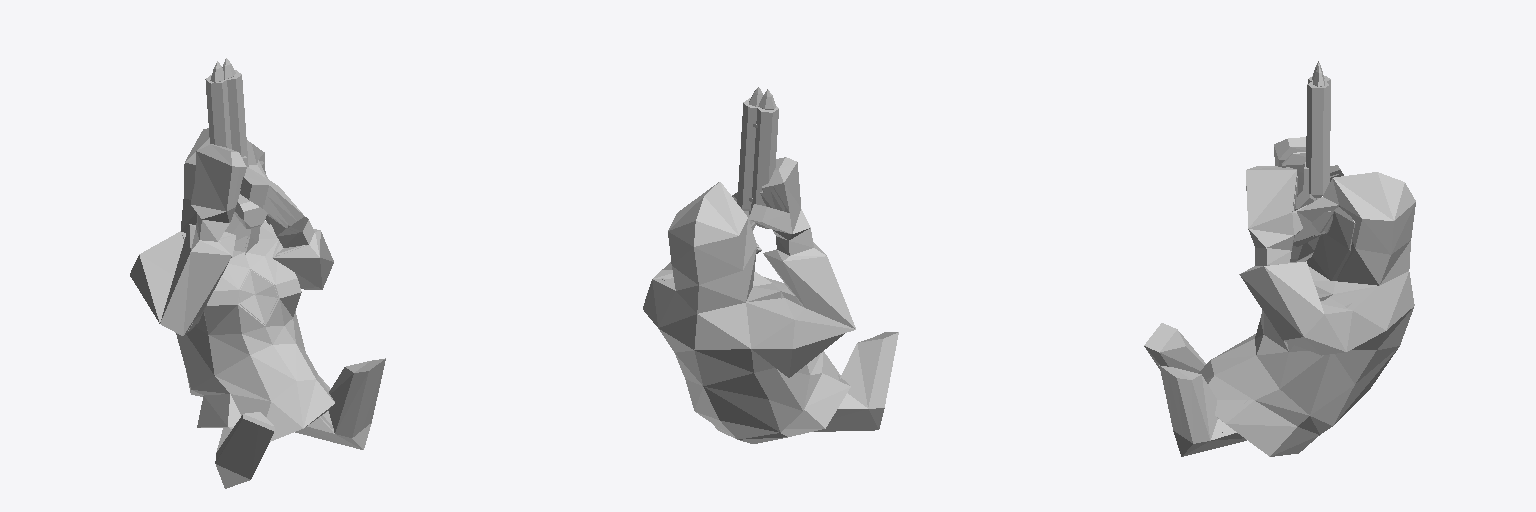
Rendered from Noita_000006.obj.
3 renders of one model, left to right at view 1: azimuth 30°, elevation 25°; view 2: azimuth 150°, elevation 25°; view 3: azimuth 270°, elevation 25°, orthographic.
Visible parts, largest first — view 1: Noita_Plane, Shotgun_Plane.002; view 2: Noita_Plane, Shotgun_Plane.002; view 3: Noita_Plane, Shotgun_Plane.002.
Part boxes in pixels (x1,y1,x2,y2): Noita_Plane: (130, 128, 385, 488); Shotgun_Plane.002: (205, 70, 267, 228); Noita_Plane: (643, 157, 898, 443); Shotgun_Plane.002: (737, 98, 778, 228); Noita_Plane: (1144, 137, 1415, 456); Shotgun_Plane.002: (1295, 76, 1330, 210).
Bounding box in the file's own units: 2.4 × 4.63 × 3.07.